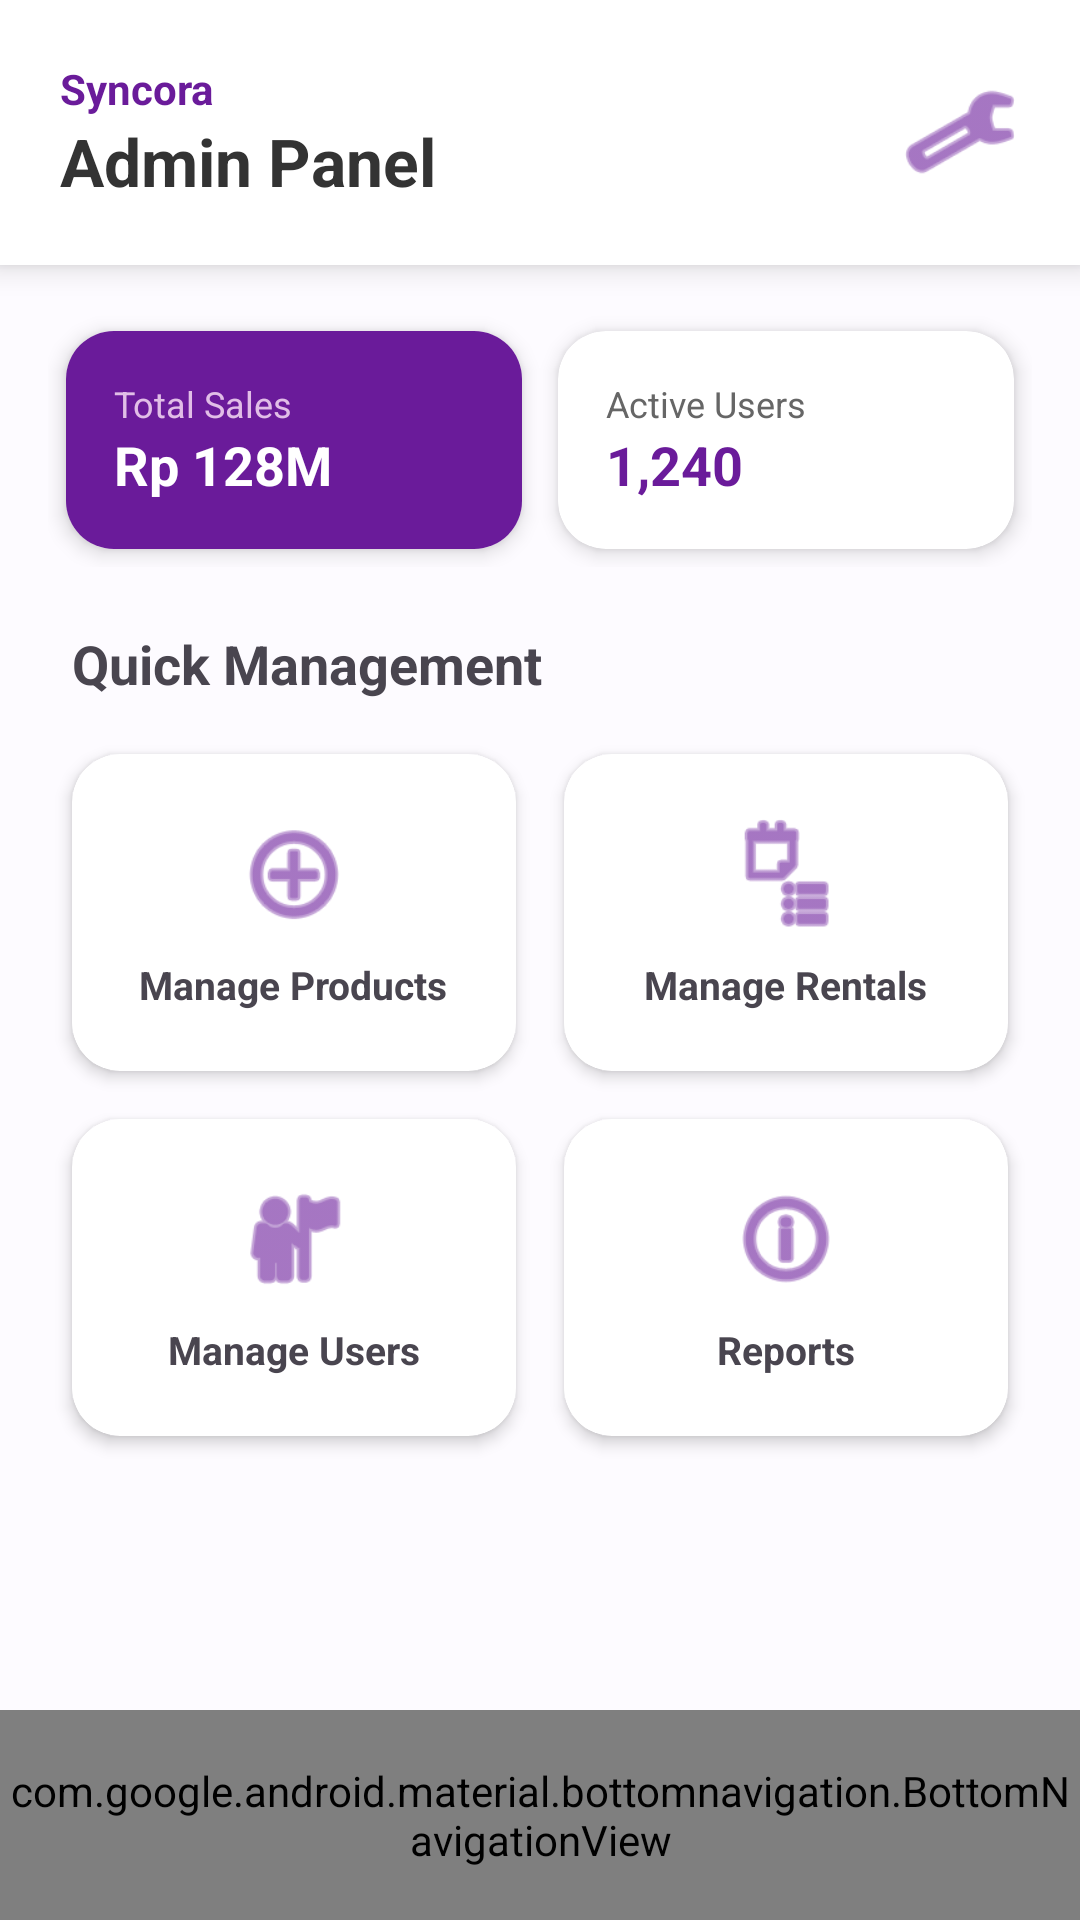

Where to tap for icons on this 1080w x 1920h app screen, as [x,y]:
add: [294,874]
agenda: [786,873]
info details: [786,1239]
manage: [960,132]
myplaces: [295,1239]
